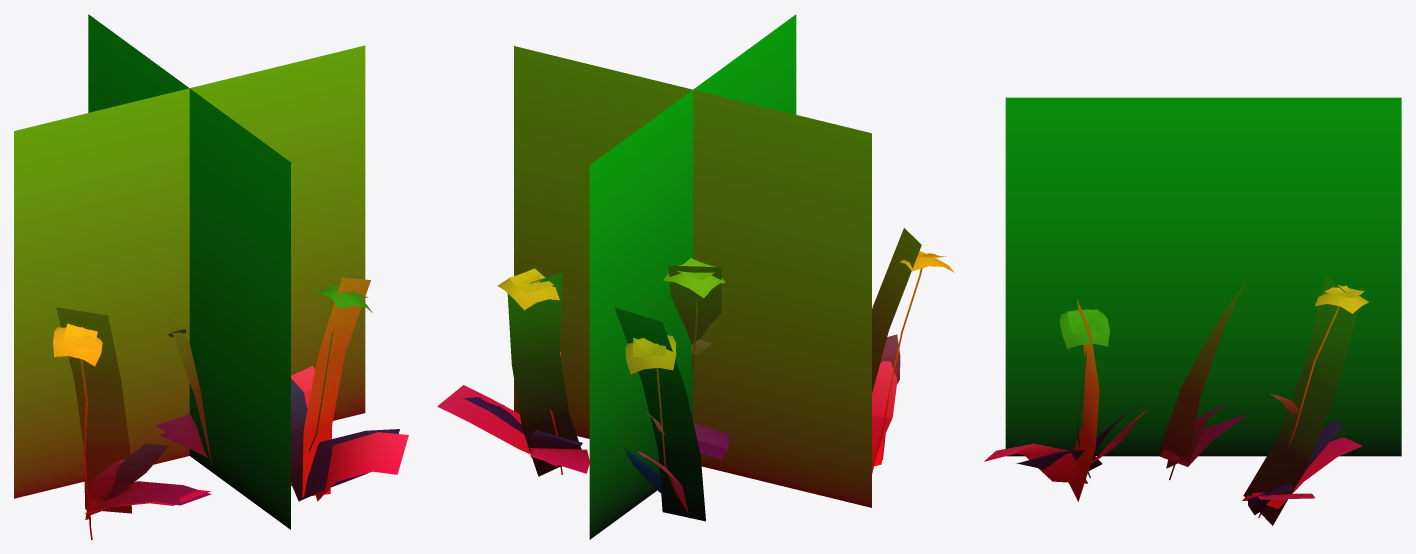
The model's file is MSH_Field_DandelionFlower_B.FBX.
3 views of the same model, side by side, from view 1: azimuth 30°, elevation 25°; view 2: azimuth 150°, elevation 25°; view 3: azimuth 270°, elevation 25° (orthographic). The views are drawn at different scales.
Visible parts, largest first — view 1: Field_DandelionFlower_B_LOD2_GEO, Field_DandelionFlower_B_LOD1_GEO, Field_DandelionFlower_B_LOD0_GEO; view 2: Field_DandelionFlower_B_LOD2_GEO, Field_DandelionFlower_B_LOD1_GEO, Field_DandelionFlower_B_LOD0_GEO; view 3: Field_DandelionFlower_B_LOD2_GEO, Field_DandelionFlower_B_LOD1_GEO, Field_DandelionFlower_B_LOD0_GEO.
Boxes of the visible parts, x1,y1,x2,y2 form: Field_DandelionFlower_B_LOD2_GEO: (14,14,365,529); Field_DandelionFlower_B_LOD1_GEO: (56,277,408,515); Field_DandelionFlower_B_LOD0_GEO: (53,284,399,539); Field_DandelionFlower_B_LOD2_GEO: (514,14,871,539); Field_DandelionFlower_B_LOD1_GEO: (463,228,921,521); Field_DandelionFlower_B_LOD0_GEO: (437,251,954,518); Field_DandelionFlower_B_LOD2_GEO: (1005,97,1401,456); Field_DandelionFlower_B_LOD1_GEO: (984,274,1358,525); Field_DandelionFlower_B_LOD0_GEO: (1016,285,1368,518).
Size of the model in its own units: 95.71 by 92.08 by 90.53.
